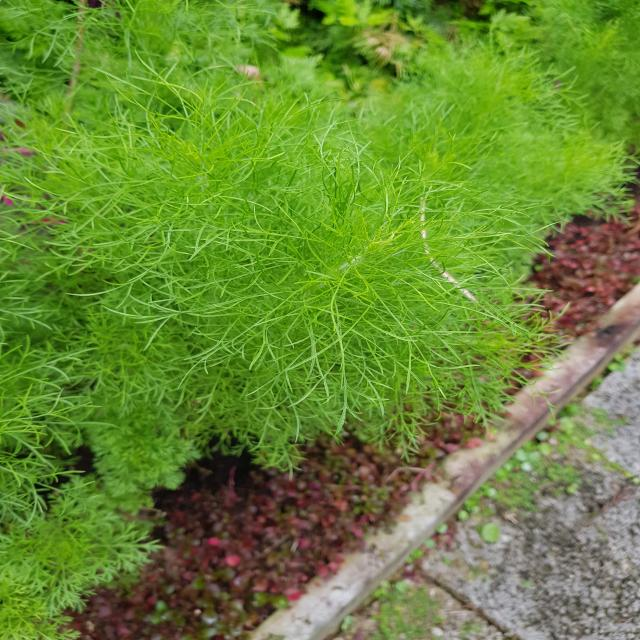Dill: (24, 27, 549, 436)
